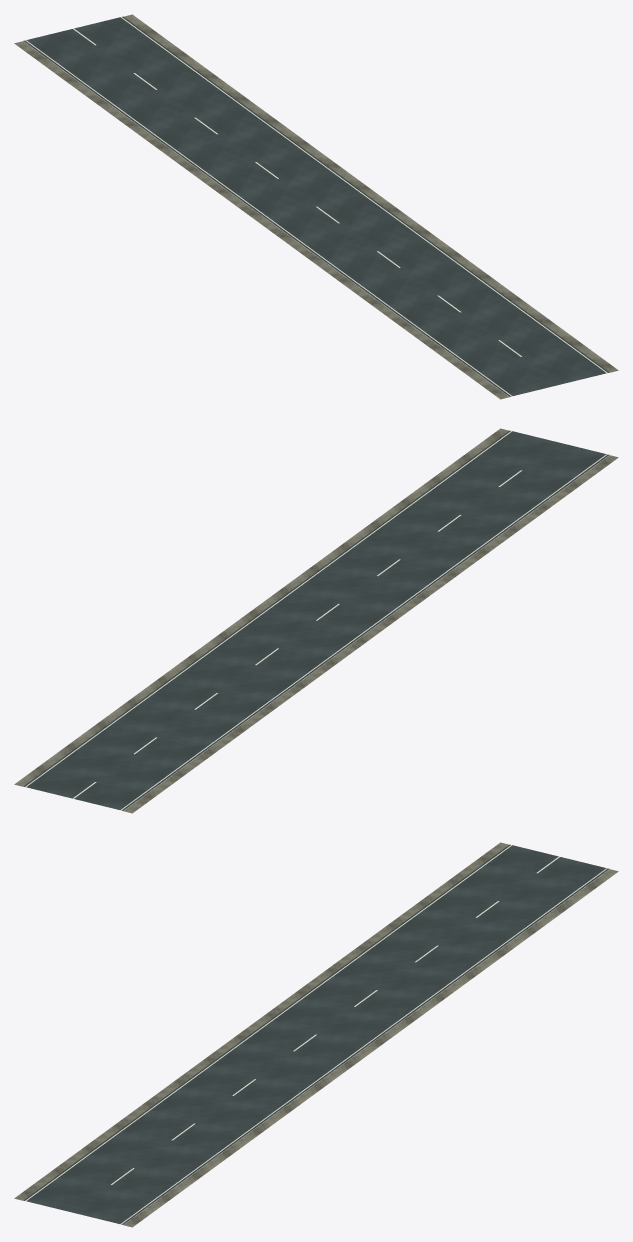
The model's file is road_coastal_highway_straight_64m.glb.
The picture shows the model from 3 angles, top to bottom: view 1: azimuth 30°, elevation 25°; view 2: azimuth 150°, elevation 25°; view 3: azimuth 330°, elevation 25°; orthographic projection.
Visible parts, largest first — view 1: road_surface, static_gravel, static_road_marking; view 2: road_surface, static_gravel, static_road_marking; view 3: road_surface, static_gravel, static_road_marking.
Part boxes in pixels (bbox=[...]): road_surface: bbox=[23, 16, 609, 396]; static_gravel: bbox=[14, 14, 618, 399]; static_road_marking: bbox=[25, 17, 607, 396]; road_surface: bbox=[23, 430, 609, 810]; static_gravel: bbox=[14, 428, 618, 813]; static_road_marking: bbox=[25, 431, 607, 810]; road_surface: bbox=[23, 844, 609, 1224]; static_gravel: bbox=[14, 842, 618, 1227]; static_road_marking: bbox=[25, 845, 607, 1224].
Bounding box in the file's own units: 9 × 0.027 × 64.
3 materials, 2 textured.
